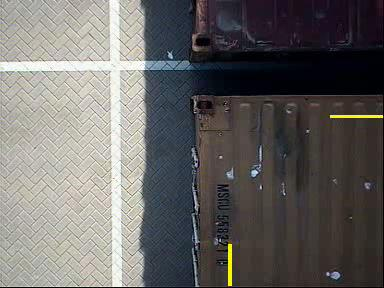groundmarker_2: (66, 60, 156, 121)
